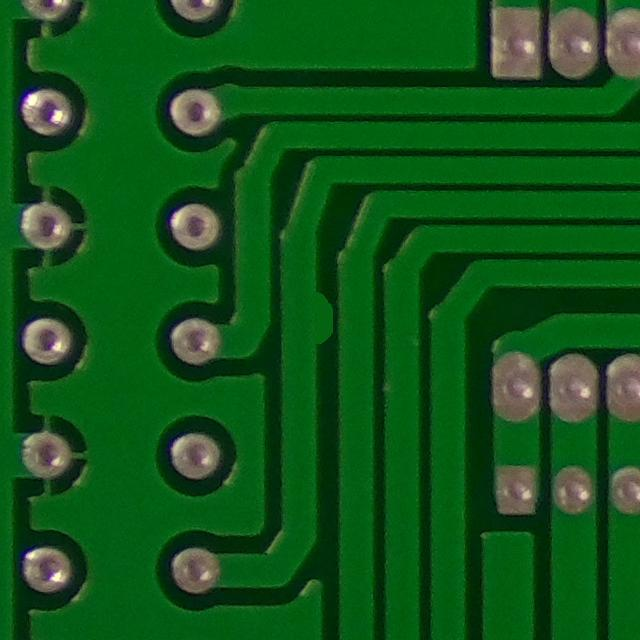spur: (293, 281, 347, 360)
